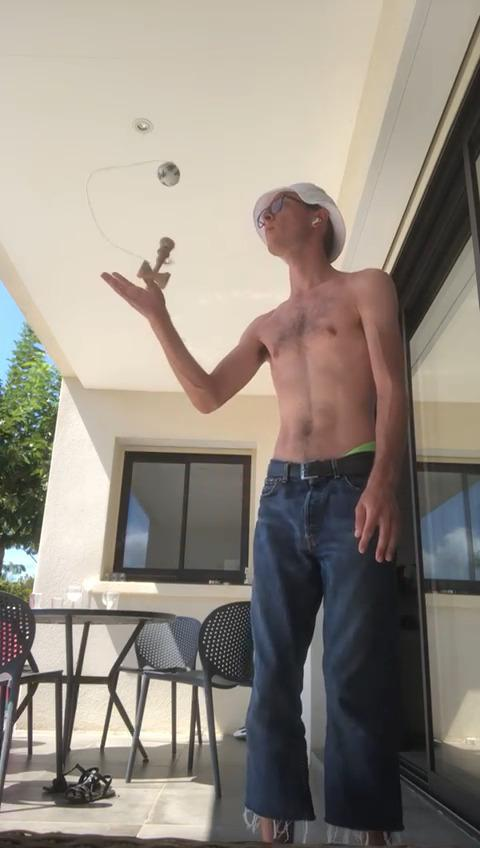kendama_ball: (157, 161, 180, 187)
